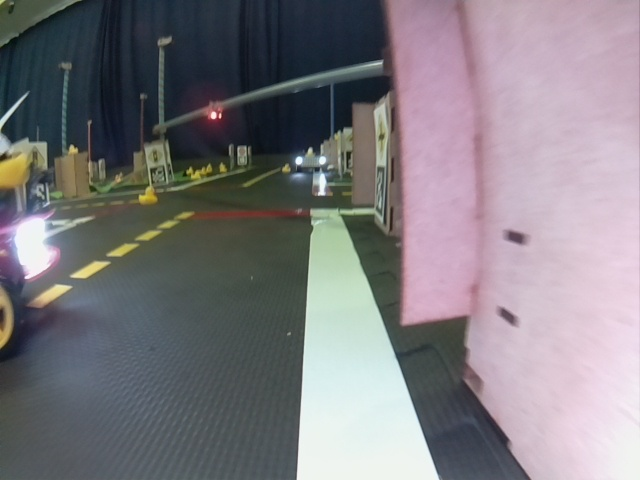Duckie: (139, 189, 158, 204), (282, 164, 291, 172), (68, 144, 76, 153), (186, 167, 194, 176), (191, 172, 199, 180), (220, 164, 226, 172), (203, 167, 208, 175)
Duckiebot: (0, 186, 59, 346), (296, 148, 326, 172)
Intersection sign: (375, 114, 387, 162)
QR code: (376, 170, 387, 218), (149, 168, 167, 183), (238, 156, 247, 166)
Signal sign: (147, 147, 164, 164)
